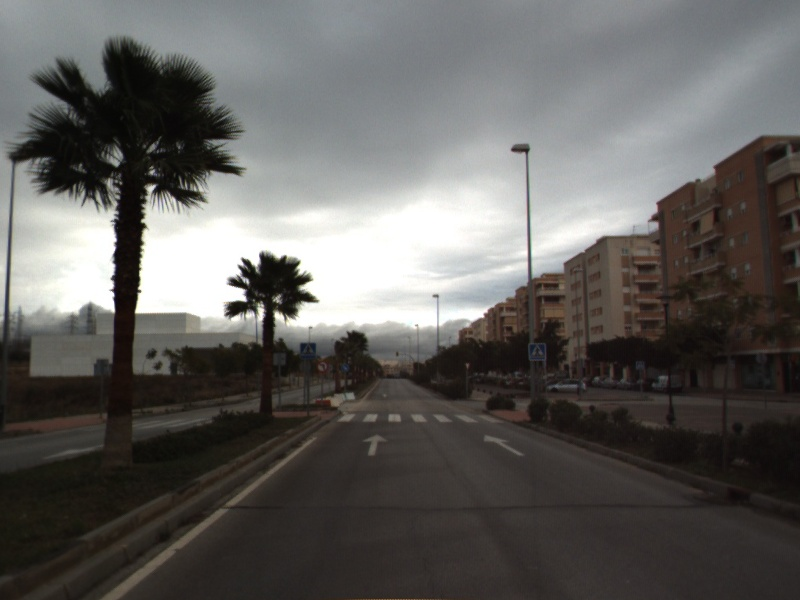STRAIGHT: (482, 433, 527, 458), (360, 432, 391, 458)
